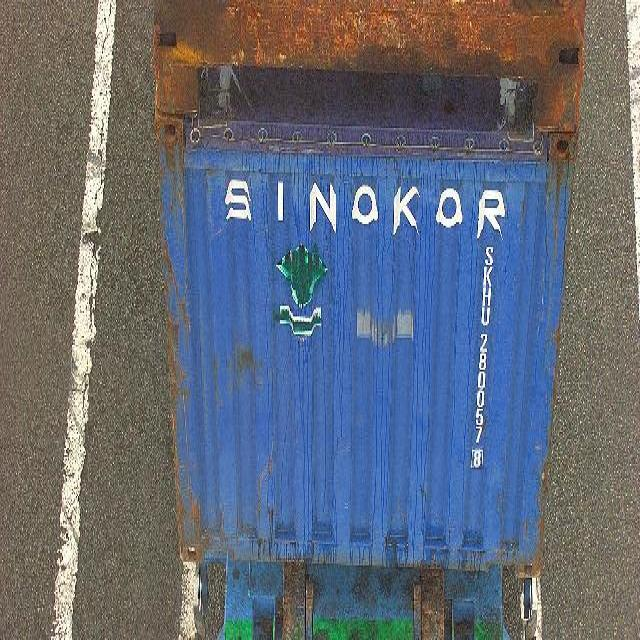container_number: (471, 240, 492, 480)
